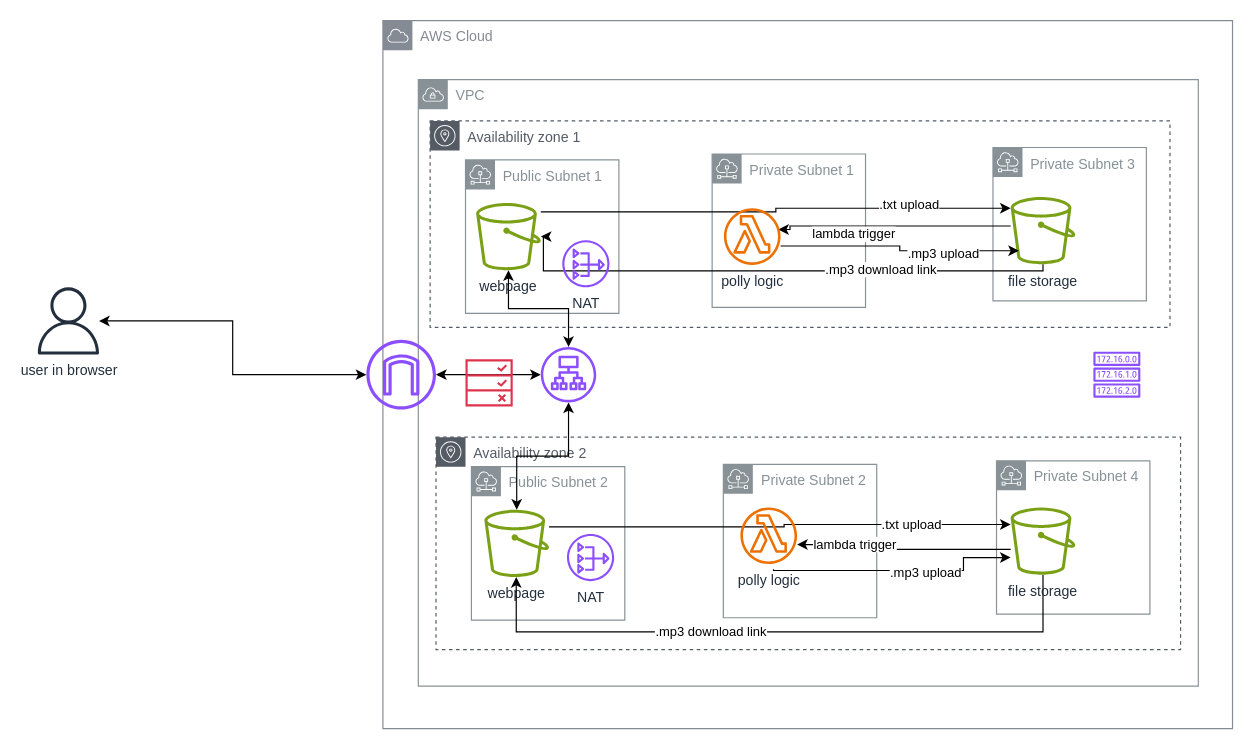
This 1253x749 diagram has some shape labels left out. Each missing label, with the centre of its shape:
ALB: pixel 568 374
IGW: pixel 400 374
routing table: pixel 1116 374
WAF: pixel 488 382
